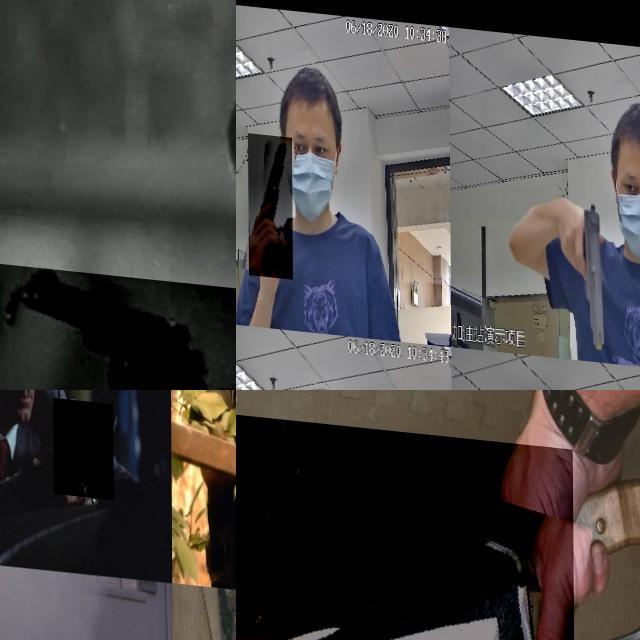-: (236, 397, 575, 640)
gun-knife-thesis - v11 Yolov5 augmented: (0, 262, 236, 390), (556, 188, 605, 348), (248, 131, 292, 276), (53, 394, 114, 494)
